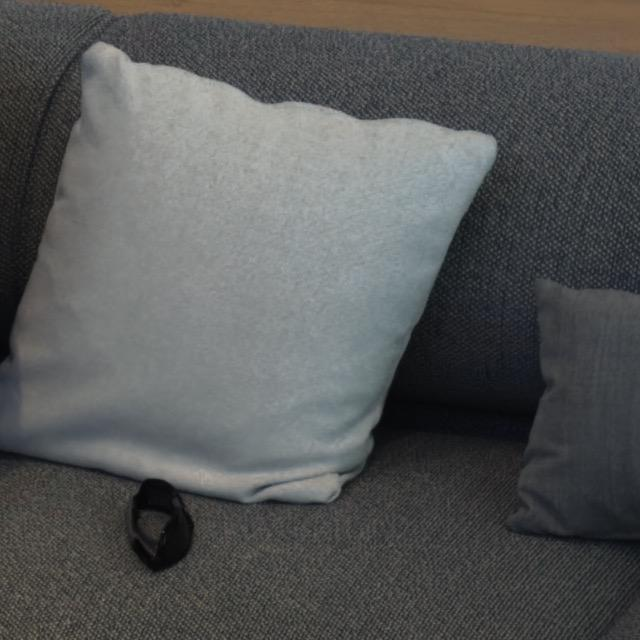Sunglasses: (129, 477, 194, 576)
